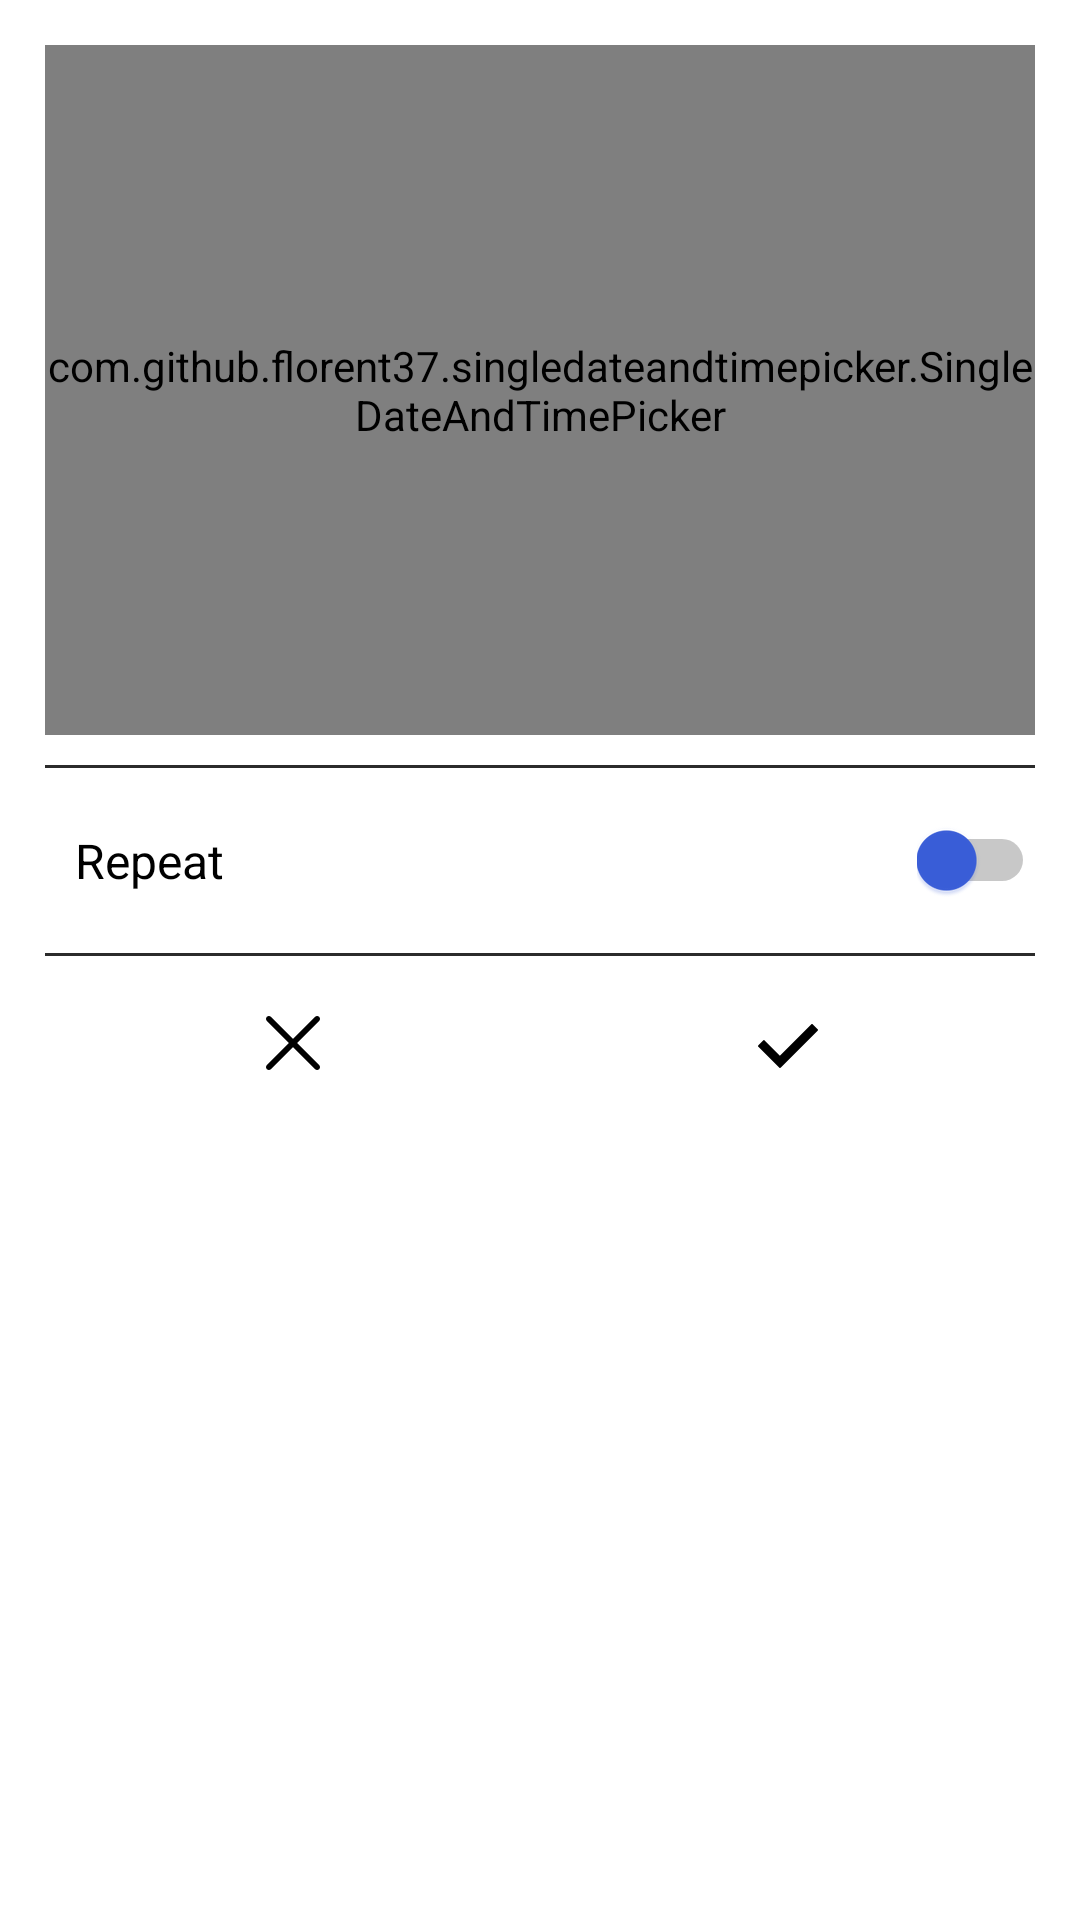

Icon bounding boxes for this 1080px x 1920px phone screenshot, format (x1, y1, x2, y2):
cancel: (266, 1016, 320, 1070)
correct: (758, 1024, 818, 1068)
